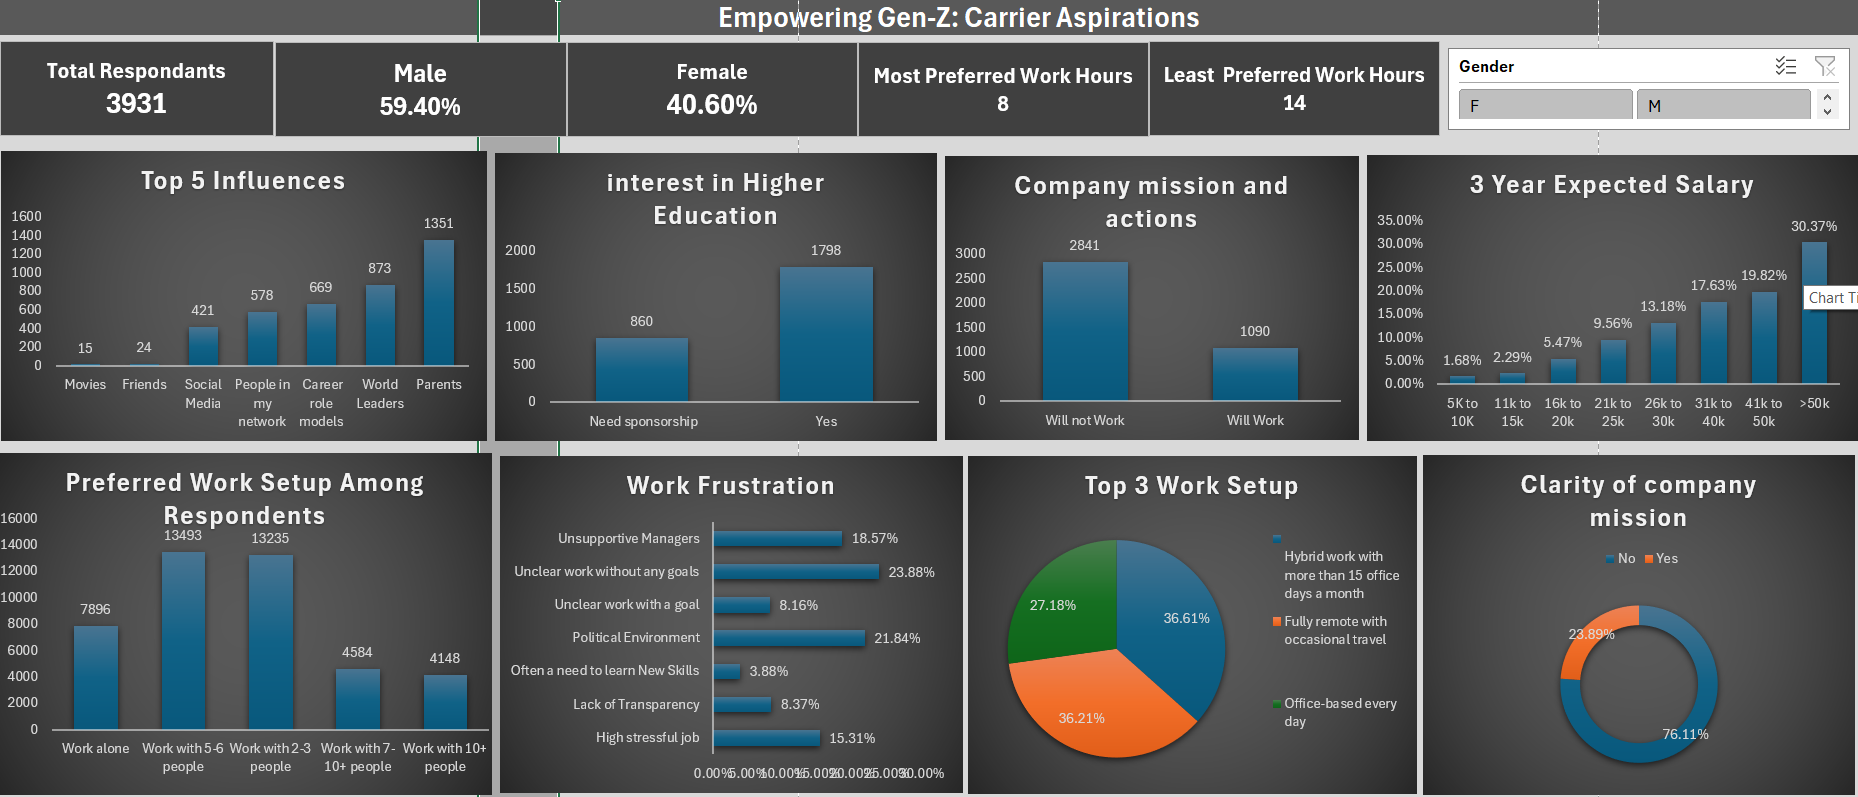

The dashboard page shown, as its layout file describes it:
{"tool":"powerbi","page":{"name":"Mission ","canvas":[1280,720],"ordinal":1},"visuals":[{"type":"columnChart","title":"Willingness to work for a company that has Laid-Off Employees recently","fields":{"Y":["CountNonNull(Data.Would you work for a company that recently laid off employees?)"],"Category":["Data.Would you work for a company that recently laid off employees?"]},"box":[0,64,368,208],"z":0},{"type":"pieChart","title":"Willingness to work for a company whose mission is misaligned with their public action","fields":{"Category":["Data.How likely are you to work for a company whose mission conflicts with its actions?"],"Y":["CountNonNull(Data.How likely are you to work for a company whose mission conflicts with its actions?)"]},"box":[368,64,368,208],"z":1000},{"type":"clusteredColumnChart","title":"Salary expectation when you are starting your career (monthly in hand)","fields":{"Category":["Data.What is your minimum expected starting salary (monthly in hand)?"],"Y":["CountNonNull(Data.What is your minimum expected starting salary (monthly in hand)?)"]},"box":[736,64,544,208],"z":2000},{"type":"clusteredColumnChart","title":"Willingness to work for company that has NO REMOTE working policy","fields":{"Category":["Data.Would you work for a company with no remote policy?"],"Y":["CountNonNull(Data.Would you work for a company with no remote policy?)"]},"box":[0,272,368,208],"z":3000},{"type":"pieChart","title":"Willingness  to work for  a company whose  mission is unclear","fields":{"Category":["Data.Would you work for a company with an unclear mission?"],"Y":["CountNonNull(Data.Would you work for a company with an unclear mission?)"]},"box":[368,272,288,208],"z":4000},{"type":"barChart","title":"Willingness to work for one employer for 3 years or more","fields":{"Category":["Data.How likely are you to stay with one employer for 3+ years ?"],"Y":["CountNonNull(Data.How likely are you to stay with one employer for 3+ years ?)"]},"box":[656,272,304,208],"z":5000},{"type":"clusteredBarChart","fields":{"Category":["Data.What is your minimum expected monthly salary for the first 3 years?"],"Y":["CountNonNull(Data.What is your minimum expected monthly salary for the first 3 years?)"]},"box":[960,272,320,208],"z":6000},{"type":"lineChart","title":"Willingness to work for a company whose mission is not bringing  social impact","fields":{"Category":["Data.How likely are you to work for a company with no social impact?"],"Y":["Sum(Data.How likely are you to work for a company with no social impact?)"]},"box":[0,480,768,240],"z":7000},{"type":"columnChart","title":"After 5 years of career from now. what is minimum expected monthly salary in  Hand","fields":{"Category":["Data.What is your minimum expected monthly salary after 5 years?"],"Y":["CountNonNull(Data.What is your minimum expected monthly salary after 5 years?)"]},"box":[768,480,512,240],"z":8000},{"type":"textbox","box":[480,0,352,48],"z":9000},{"type":"slicer","fields":{"Values":["Data.Gender"]},"box":[928,0,352,48],"z":10000}]}

Visuals, with their boxes on the page's 1280x720 design canvas (x1, y1, x2, y2). These are canvas units, not pixel positions in the 1858x797 screenshot, which may show the page scaled, cropped or inside an application window:
"Willingness to work for a company that has Laid-Off Employees recently" columnChart: {"left": 0, "top": 64, "right": 368, "bottom": 272}
"Willingness to work for a company whose mission is misaligned with their public action" pieChart: {"left": 368, "top": 64, "right": 736, "bottom": 272}
"Salary expectation when you are starting your career (monthly in hand)" clusteredColumnChart: {"left": 736, "top": 64, "right": 1280, "bottom": 272}
"Willingness to work for company that has NO REMOTE working policy" clusteredColumnChart: {"left": 0, "top": 272, "right": 368, "bottom": 480}
"Willingness  to work for  a company whose  mission is unclear" pieChart: {"left": 368, "top": 272, "right": 656, "bottom": 480}
"Willingness to work for one employer for 3 years or more" barChart: {"left": 656, "top": 272, "right": 960, "bottom": 480}
clusteredBarChart - Data.What is your minimum expected monthly salary for the first 3 years? x CountNonNull(Data.What is your minimum expected monthly salary for the first 3 years?): {"left": 960, "top": 272, "right": 1280, "bottom": 480}
"Willingness to work for a company whose mission is not bringing  social impact" lineChart: {"left": 0, "top": 480, "right": 768, "bottom": 720}
"After 5 years of career from now. what is minimum expected monthly salary in  Hand" columnChart: {"left": 768, "top": 480, "right": 1280, "bottom": 720}
textbox: {"left": 480, "top": 0, "right": 832, "bottom": 48}
slicer - Data.Gender: {"left": 928, "top": 0, "right": 1280, "bottom": 48}
